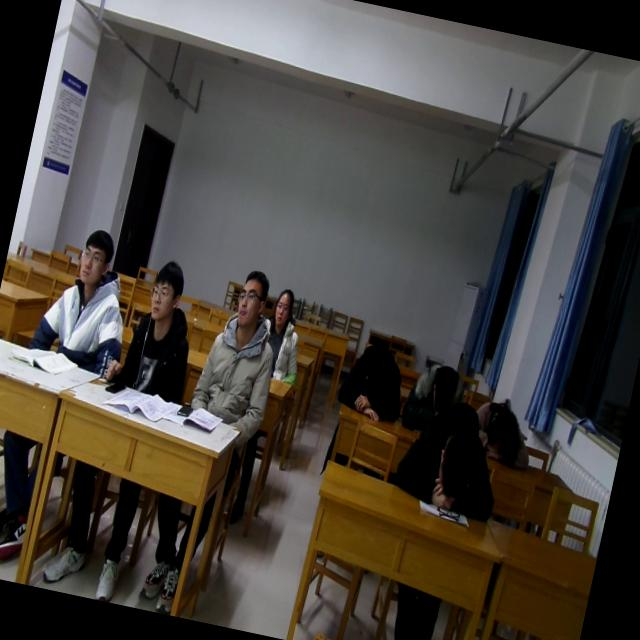bow: (387, 390, 513, 525), (332, 332, 414, 428), (397, 352, 473, 442), (462, 391, 543, 474)
lookup: (68, 218, 120, 292), (143, 253, 190, 329), (226, 260, 274, 330), (268, 276, 301, 331)
sit: (187, 261, 295, 436), (28, 218, 145, 378), (99, 249, 209, 406), (256, 283, 314, 385)
